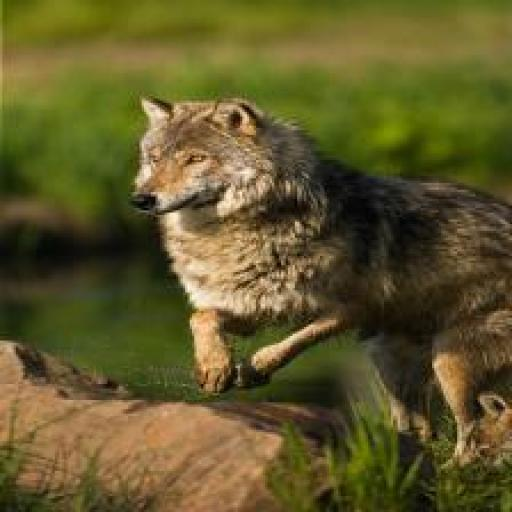wolf: (107, 46, 512, 511)
